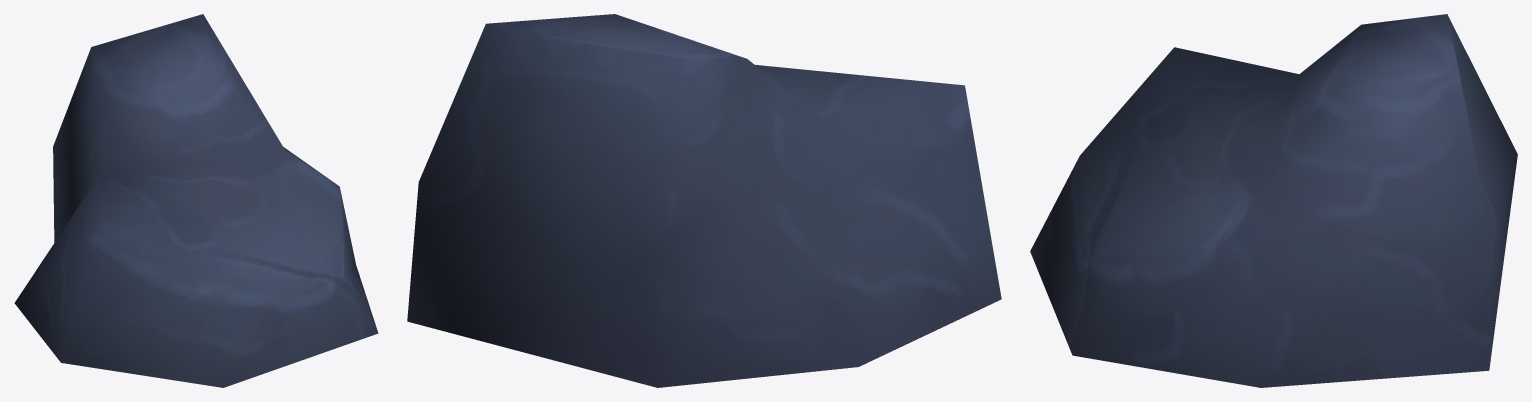
File: lm_rock_07.fbx
The picture shows the model from 3 angles, left to right: view 1: azimuth 30°, elevation 25°; view 2: azimuth 150°, elevation 25°; view 3: azimuth 270°, elevation 25°; orthographic projection. The views are drawn at different scales.
Visible parts, largest first — view 1: lm_rock_07; view 2: lm_rock_07; view 3: lm_rock_07.
Part boxes in pixels (<box>): lm_rock_07: <box>14,14,378,387</box>; lm_rock_07: <box>407,14,1001,387</box>; lm_rock_07: <box>1030,14,1517,387</box>.
Bounding box in the file's own units: 0.6412 × 0.3979 × 0.6787.
